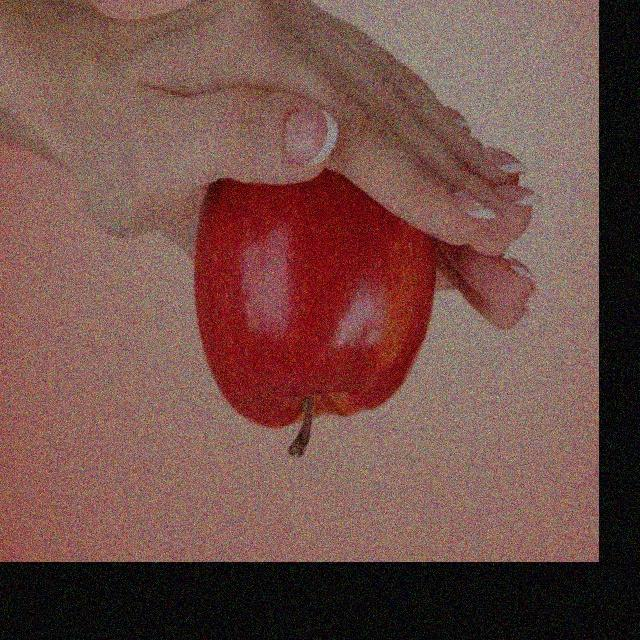red apple: (182, 166, 442, 441)
